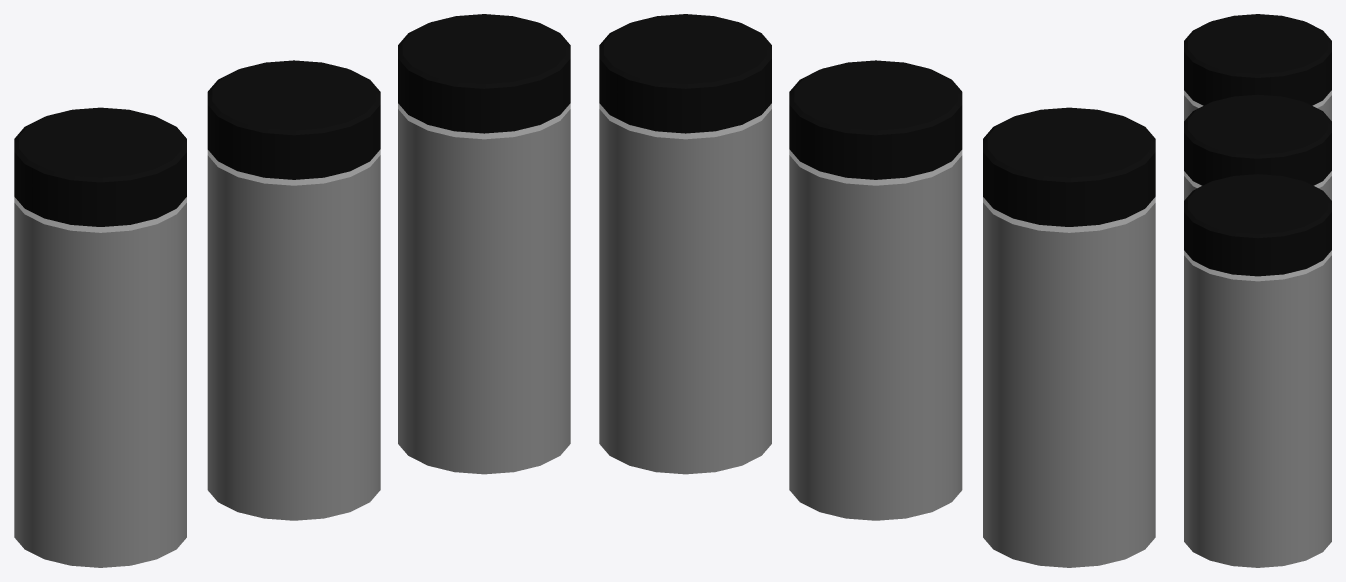
Rendered from Spices 1.FBX.
The picture shows the model from 3 angles, left to right: view 1: azimuth 30°, elevation 25°; view 2: azimuth 150°, elevation 25°; view 3: azimuth 270°, elevation 25°; orthographic projection. The views are drawn at different scales.
Parts seen in each view (by area): view 1: spices 2, spices 3, spices 1; view 2: spices 2, spices 3, spices 1; view 3: spices 3, spices 1, spices 2.
Boxes of the visible parts, x1,y1,x2,y2 form: spices 2: (207, 60, 380, 520); spices 3: (398, 14, 570, 474); spices 1: (14, 107, 186, 567); spices 2: (789, 60, 962, 520); spices 3: (599, 14, 771, 474); spices 1: (983, 107, 1155, 567); spices 3: (1184, 174, 1331, 567); spices 1: (1184, 14, 1331, 120); spices 2: (1184, 94, 1331, 200).
Size of the model in its own units: 28.48 by 20.05 by 7.96.
2 materials, 1 textured.
